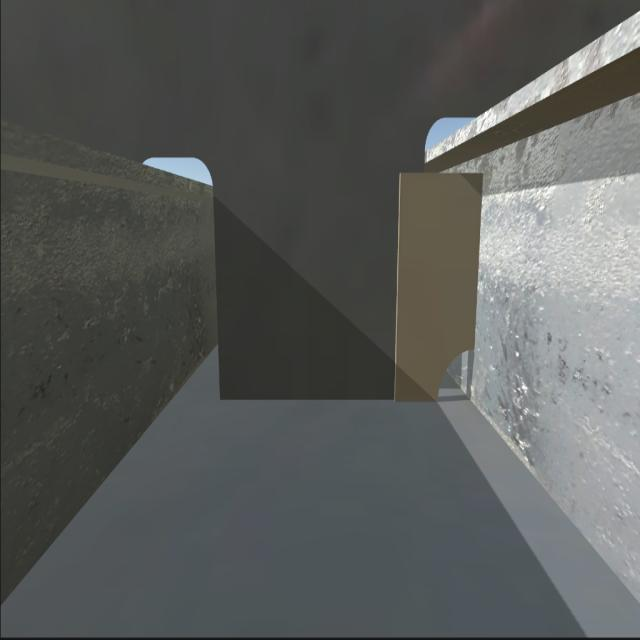fillet_hole: (438, 352, 471, 407)
fillet_yong_jeop_jang: (218, 393, 446, 408)
longi_yong_jeop_jang: (471, 181, 484, 348)
plate_CP01: (396, 181, 470, 403)
